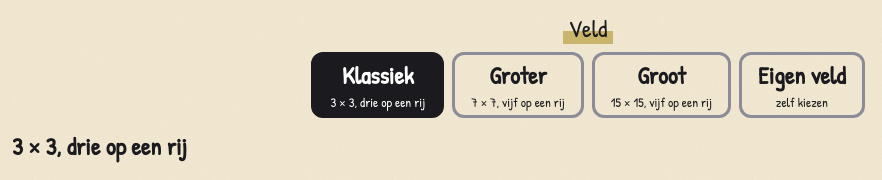
Test: FieldPicker › takes a preset
Click the button "Groter 7 × 7, vijf op een rij".
click(518, 85)  # box [452,52,584,118]
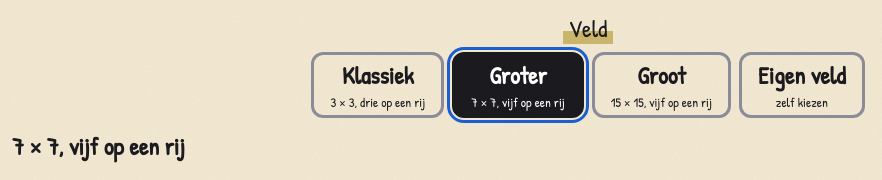
Now the text with class "field-summary" reads "7 × 7, vijf op een rij", box [12,130,185,162]
